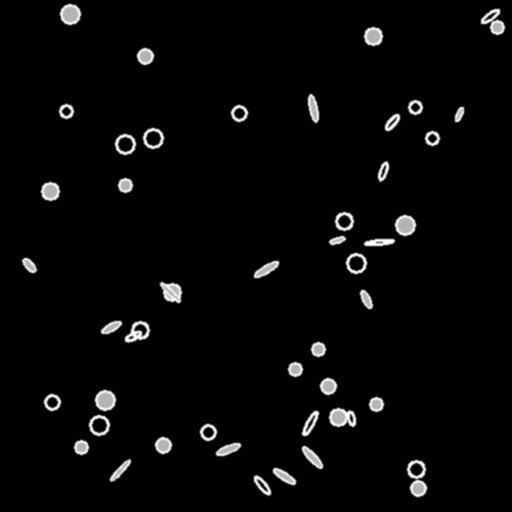pseudomonas: (300, 445, 324, 469), (109, 458, 131, 482), (253, 259, 279, 279), (159, 281, 181, 303), (301, 410, 319, 436), (272, 467, 296, 485), (215, 441, 241, 457), (253, 475, 271, 495), (480, 7, 500, 25), (100, 319, 122, 335), (383, 113, 401, 131), (307, 95, 319, 121), (21, 256, 37, 274), (359, 289, 373, 309), (364, 238, 394, 246), (377, 161, 389, 181), (125, 330, 141, 342), (346, 410, 356, 426), (454, 106, 464, 122), (329, 236, 345, 244)
synechocystis: (90, 416, 108, 434), (61, 5, 79, 23), (396, 216, 414, 234), (144, 129, 162, 147), (347, 254, 365, 272), (96, 391, 114, 409), (116, 135, 134, 153), (164, 284, 180, 300), (408, 461, 424, 477), (42, 183, 58, 199), (330, 409, 346, 425), (132, 322, 148, 338), (365, 28, 381, 44), (336, 213, 352, 229), (411, 481, 425, 495), (156, 438, 170, 452), (321, 379, 335, 393), (232, 106, 246, 120), (138, 49, 152, 63), (45, 395, 59, 409), (201, 425, 215, 439), (60, 105, 72, 117), (409, 101, 421, 113), (370, 398, 382, 410), (119, 179, 131, 191), (426, 132, 438, 144), (75, 441, 87, 453), (289, 363, 301, 375), (491, 21, 503, 33), (312, 343, 324, 355)
